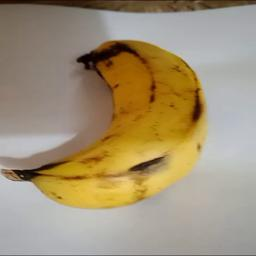Banana Semifresh: (0, 38, 211, 210)
